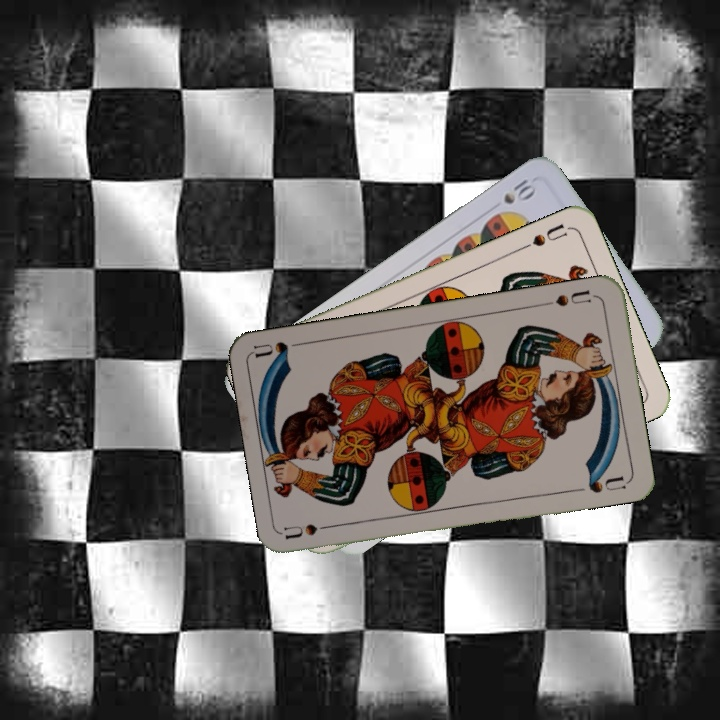S10: (499, 175, 539, 207)
SU: (515, 220, 572, 253), (282, 519, 342, 542), (540, 286, 599, 309)
